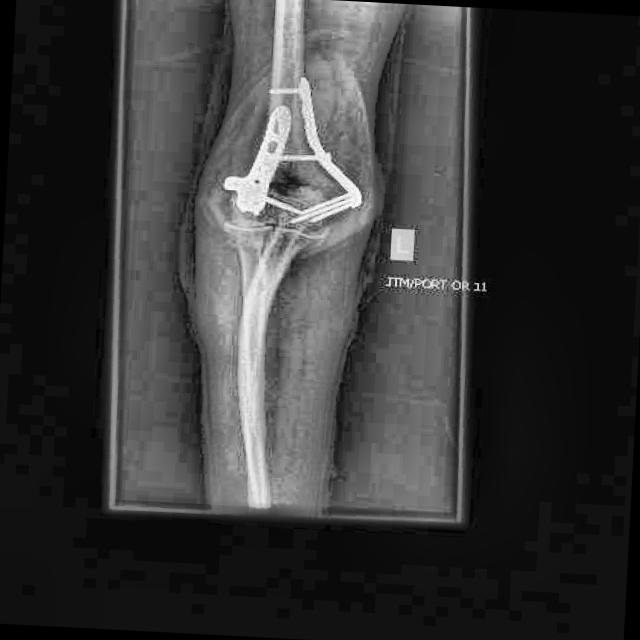elbow positive: (253, 119, 338, 201)
